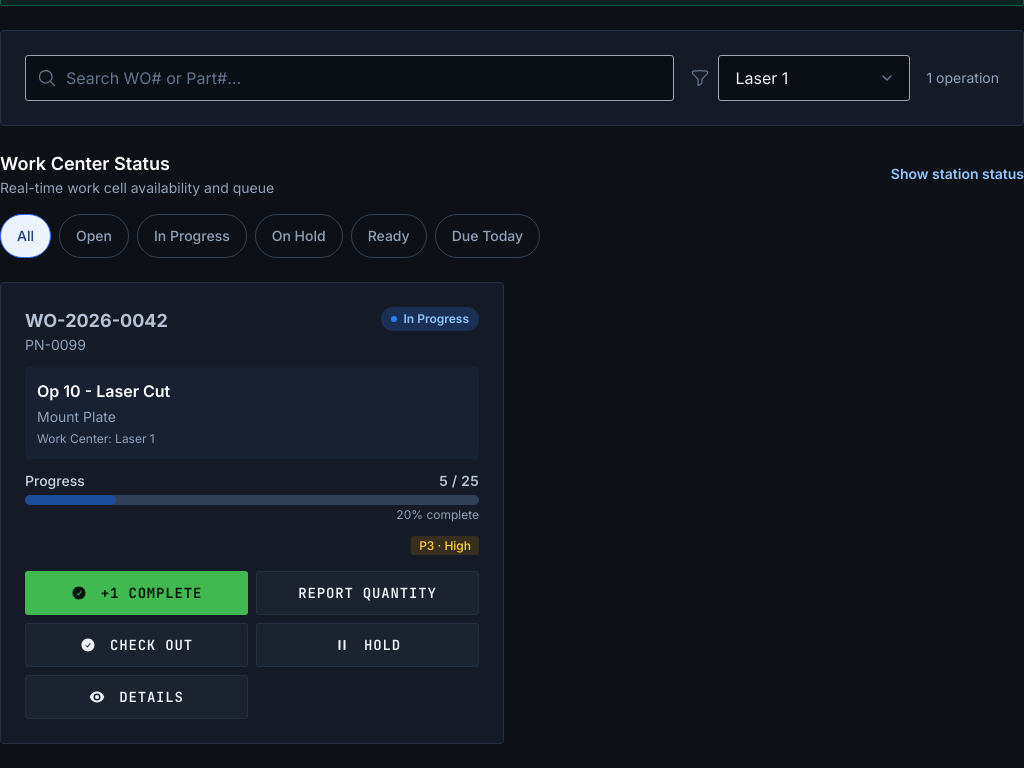
Test: ShopFloorSimple check-out scrap reason › reveals a required scrap-reason picker and disables save until one is chosen
(page scrolled)
Expected: the element with test id "shop-floor-op-101" is shown, [0,282,504,744]
Click the button "Check Out": (136, 644) [25,622,248,666]
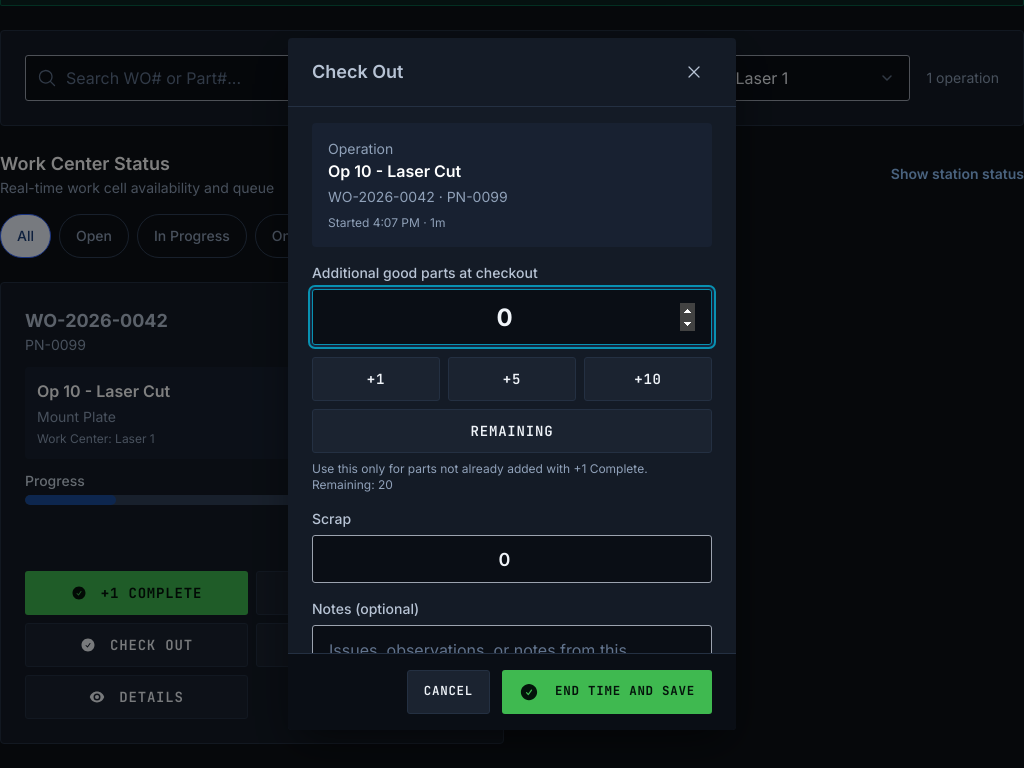
Expected: the dropdown labelled "Scrap reason" is not shown
Now the button "End time and save" is enabled, box [502,670,712,714]
Replace the text in the number field labelled "Scrap" with "2": (512, 559) [312,535,712,583]
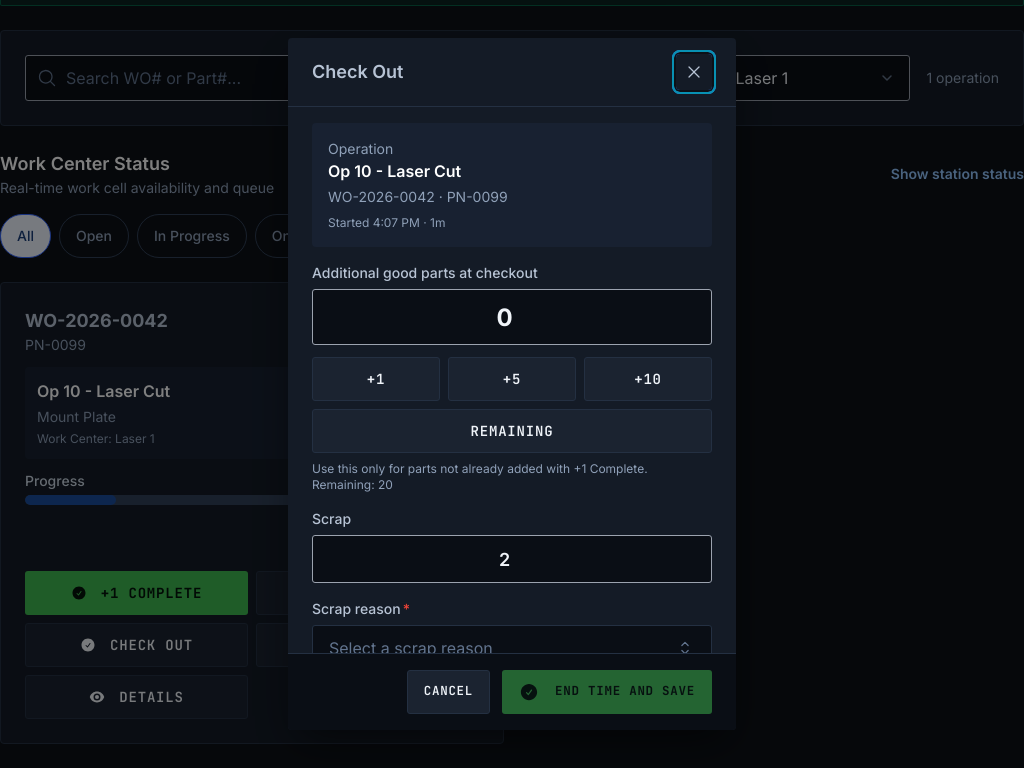
Now the button "End time and save" is disabled, box [502,670,712,714]
